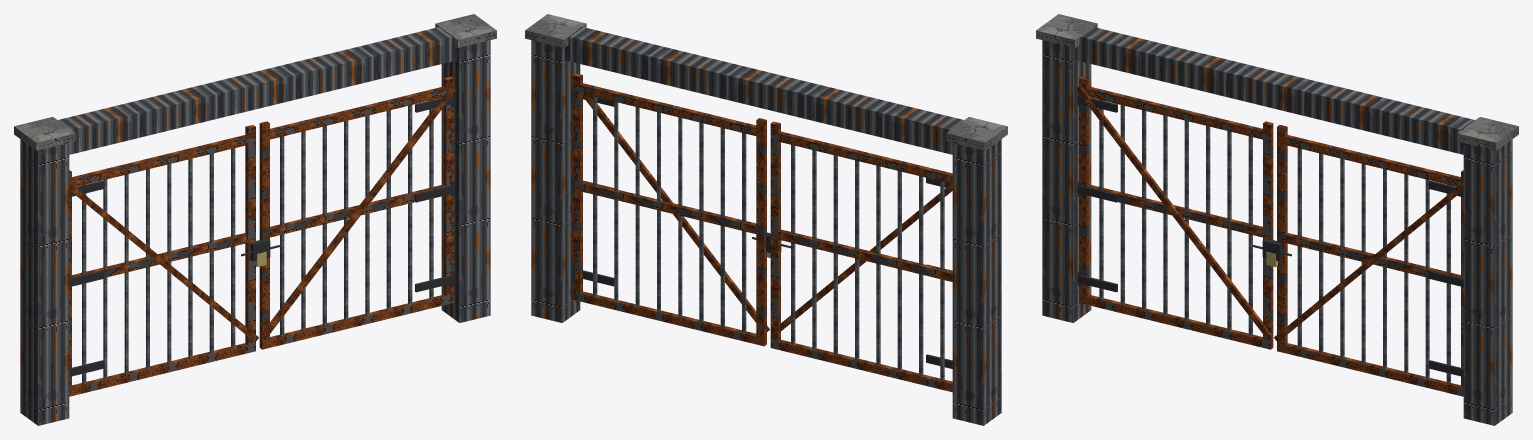
Rendered from DST_SteelGate.glb.
3 renders of one model, left to right at view 1: azimuth 30°, elevation 25°; view 2: azimuth 150°, elevation 25°; view 3: azimuth 330°, elevation 25°, orthographic.
Parts seen in each view (by area): view 1: Lintel, Post, Post.001, Brace.001, Style.001, Style.002, Bot.001, Top, Bot, Top.001, Style.003, Brace (+21 smaller); view 2: Lintel, Post, Post.001, Style.002, Style.001, Style.003, Bot.001, Top.001, Top, Mid.001, Bot, Mid (+20 smaller); view 3: Lintel, Post.001, Post, Brace, Style.002, Bot, Style.001, Top, Bot.001, Top.001, Style, Mid (+21 smaller).
Boxes of the visible parts, box(x1,y1,x2,y2) form: Lintel: box(22, 27, 457, 162); Post: box(20, 139, 69, 425); Post.001: box(441, 40, 490, 322); Brace.001: box(260, 85, 455, 339); Style.001: box(245, 125, 255, 348); Style.002: box(259, 121, 269, 345); Bot.001: box(259, 294, 453, 349); Top: box(70, 135, 255, 186); Bot: box(69, 343, 255, 396); Top.001: box(260, 86, 449, 140); Style.003: box(443, 76, 453, 296); Brace: box(69, 182, 258, 342); Lintel: box(564, 27, 999, 162); Post: box(952, 139, 1001, 425); Post.001: box(531, 40, 580, 322); Style.002: box(756, 118, 766, 340); Style.001: box(770, 121, 780, 341); Style.003: box(572, 73, 582, 297); Bot.001: box(572, 291, 766, 346); Top.001: box(572, 83, 766, 136); Top: box(771, 131, 952, 183); Mid.001: box(575, 181, 766, 234); Bot: box(770, 340, 952, 392); Mid: box(770, 229, 952, 281); Lintel: box(1075, 27, 1510, 162); Post.001: box(1463, 139, 1512, 425); Post: box(1042, 40, 1091, 322); Brace: box(1077, 85, 1272, 339); Style.002: box(1277, 125, 1287, 348); Bot: box(1079, 294, 1273, 349); Style.001: box(1263, 121, 1273, 344); Top: box(1086, 86, 1272, 140); Bot.001: box(1277, 343, 1463, 396); Top.001: box(1277, 135, 1463, 186); Style: box(1079, 76, 1089, 296); Mid: box(1082, 184, 1273, 238).
Size of the model in its own units: 5.9 by 3.5 by 0.5.
Materials: 6 (4 with a texture image).
